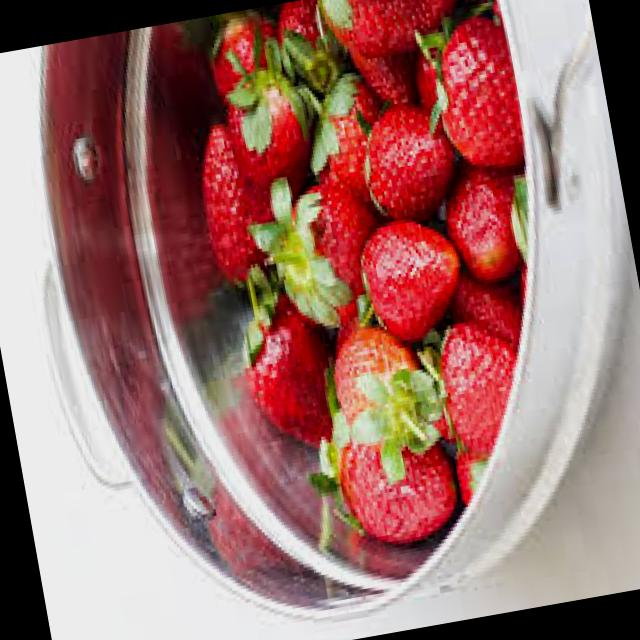strawberry: (232, 286, 346, 458), (418, 9, 528, 179), (333, 414, 464, 552), (354, 212, 472, 348), (354, 96, 466, 228), (329, 292, 363, 331)
